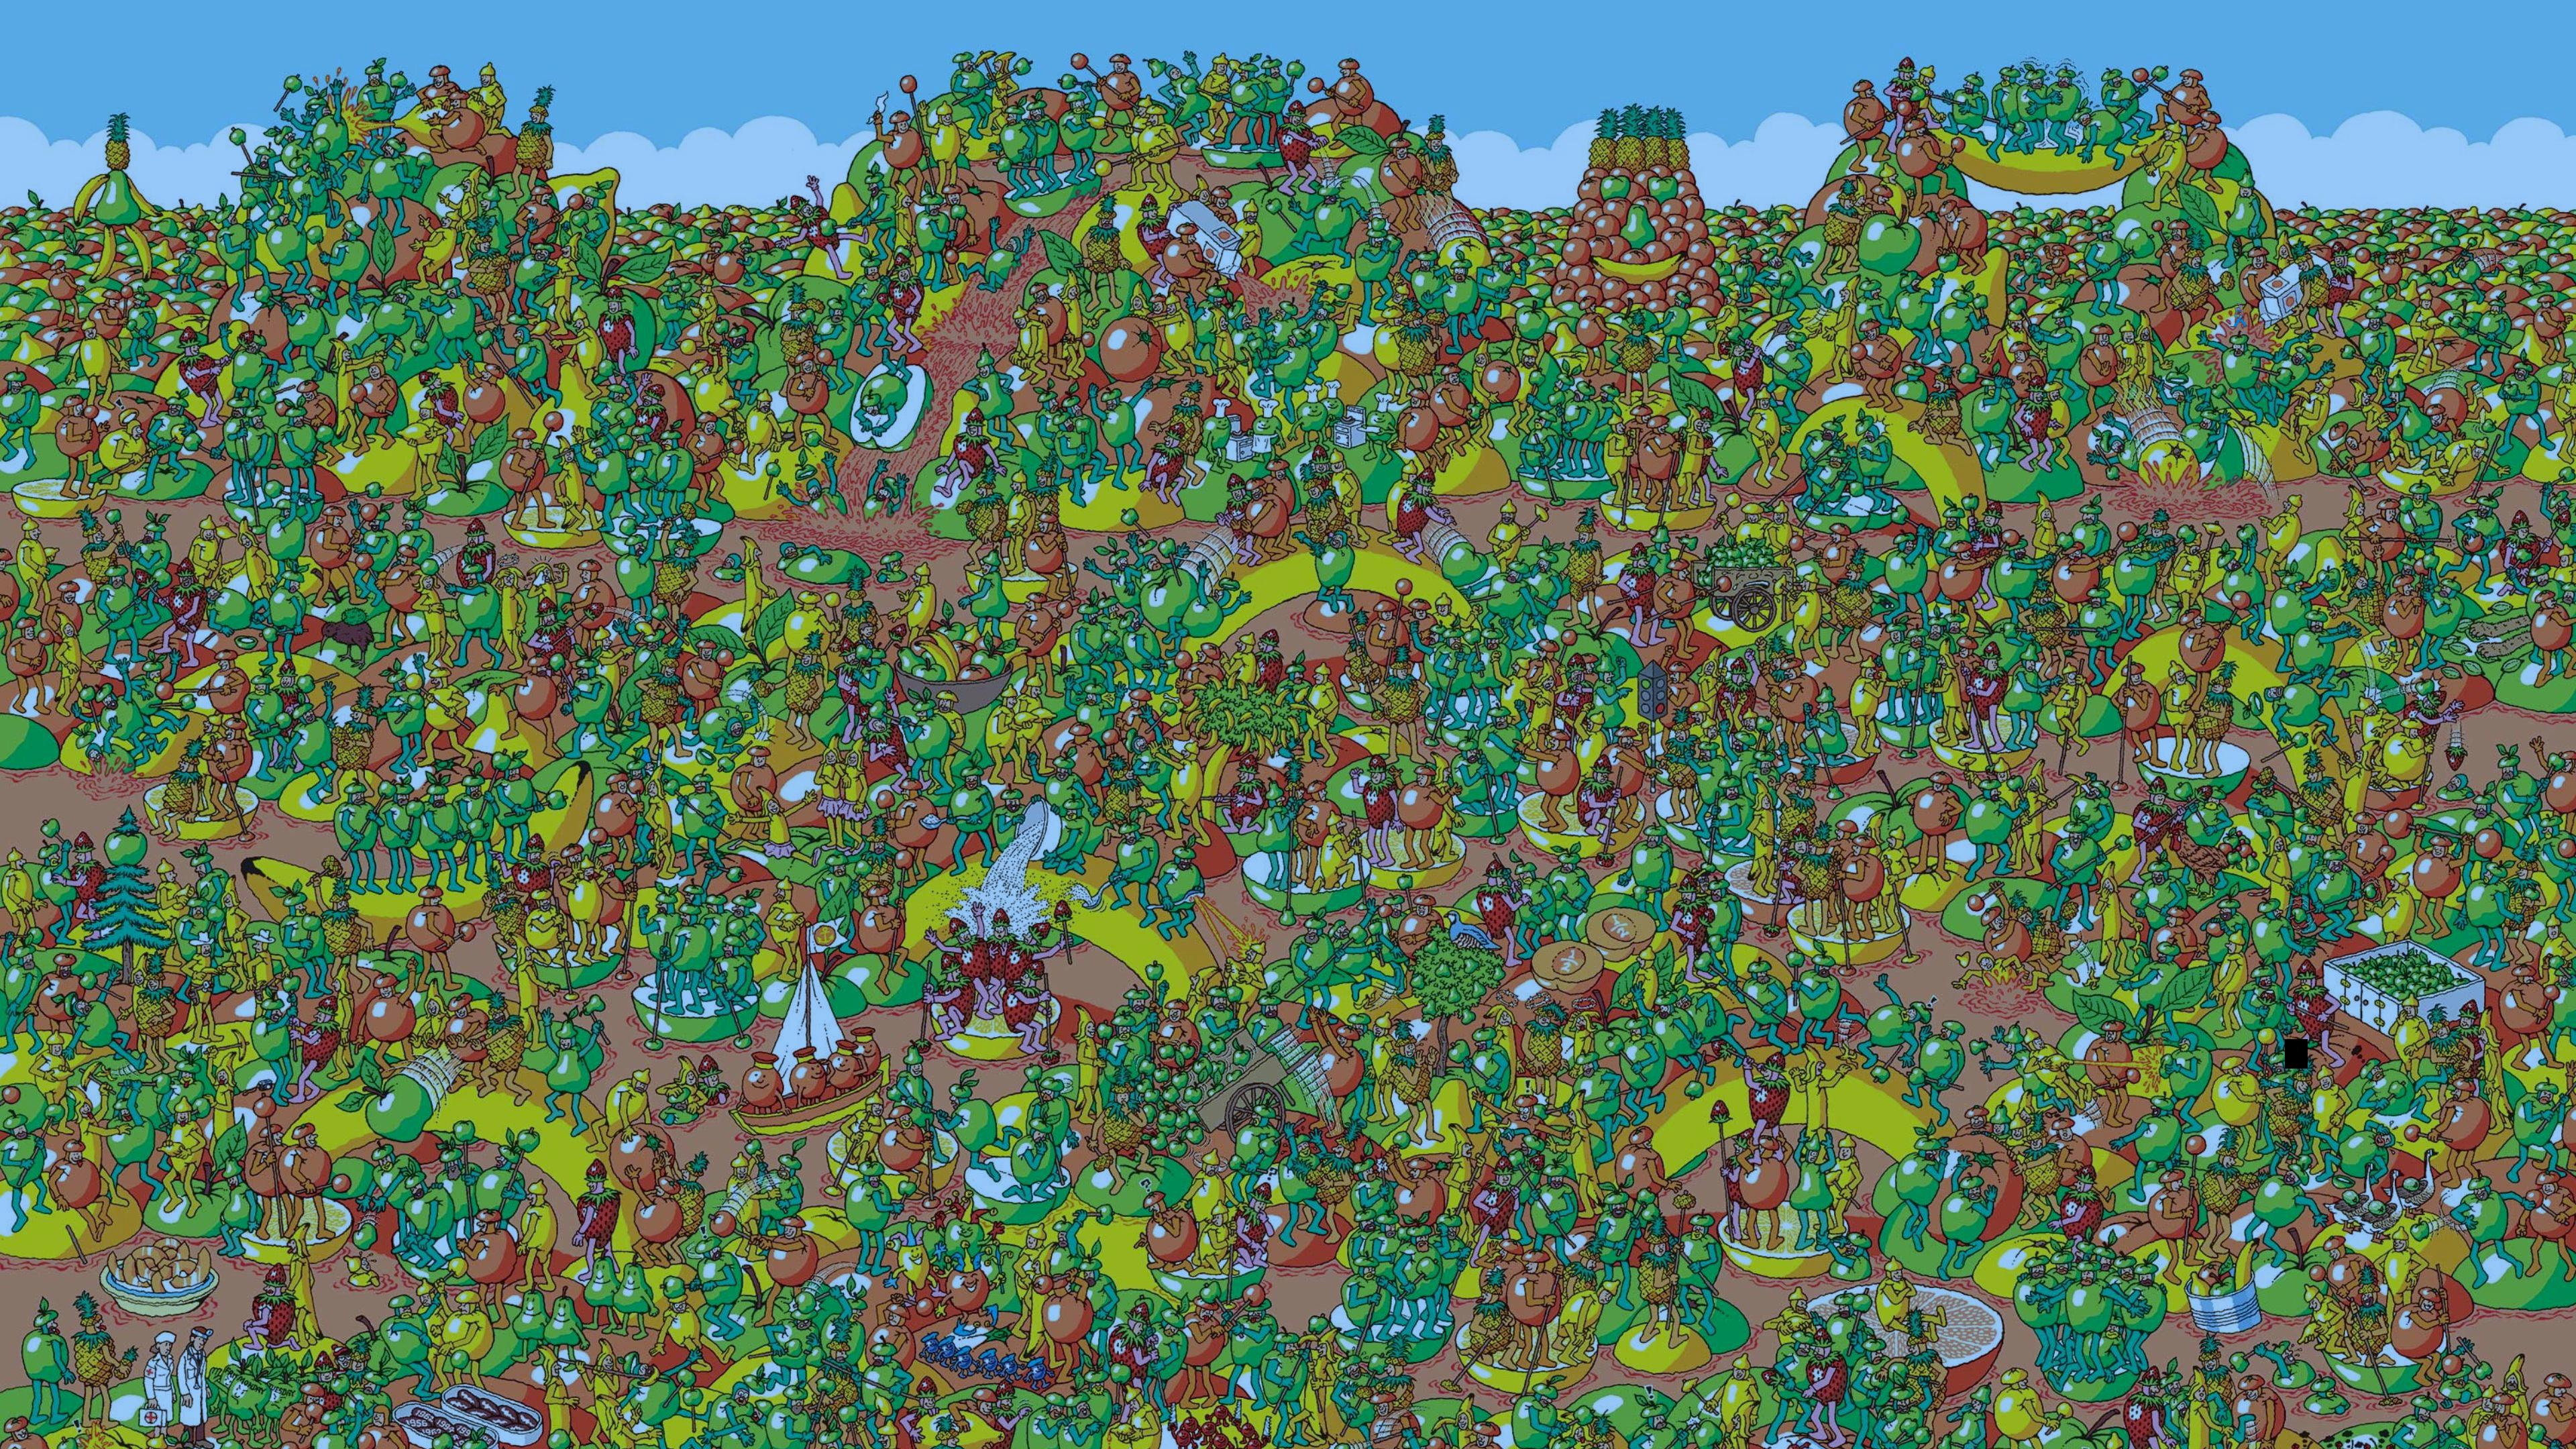waldos: (2229, 301, 2250, 331)
